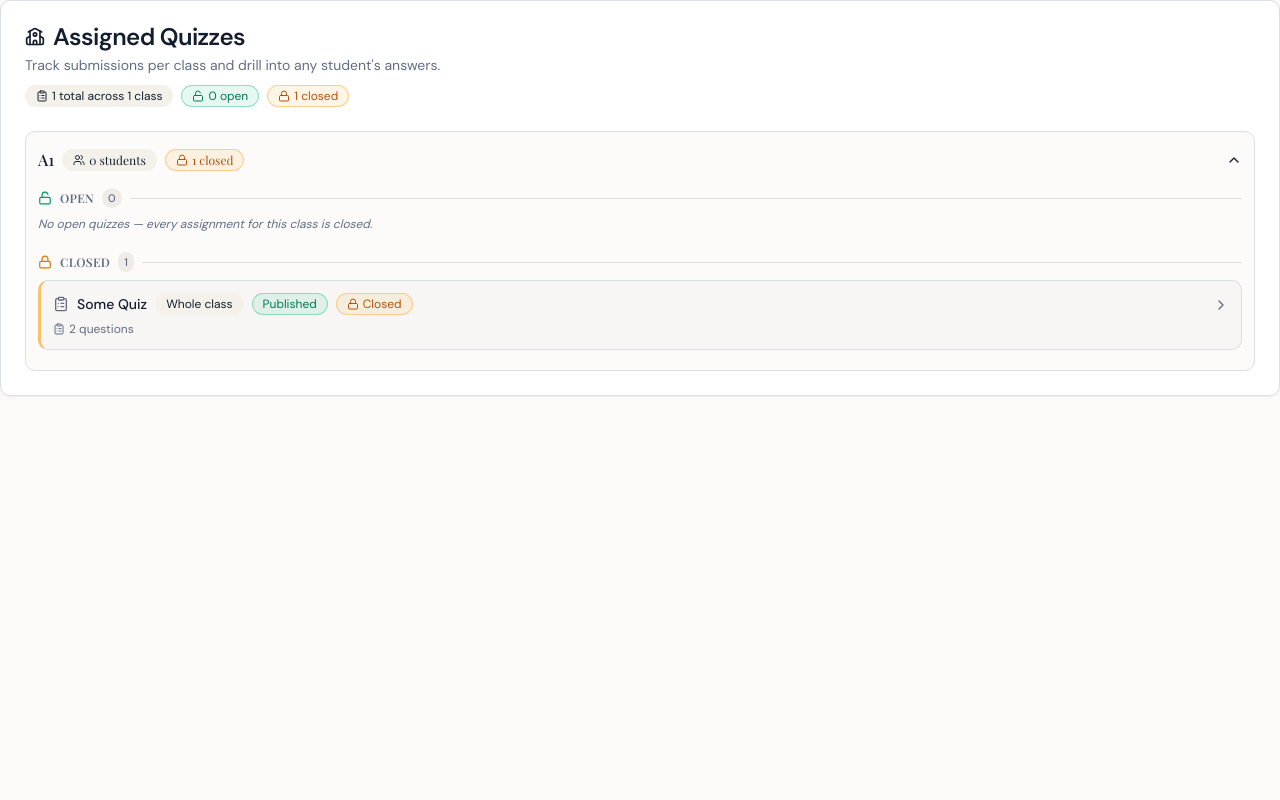
Test: AssignedQuizzesBoard › offers no in-card Analyze action — the AI assessment lives in the results dialog
Check: the text "A1" is shown, box [38,148,54,172]
Check: the text "Some Quiz" is shown, box [77,294,147,314]
Click the button "Some Quiz Whole class Published Closed 2 questions". click: (112, 304)
box: [41,281,1241,349]
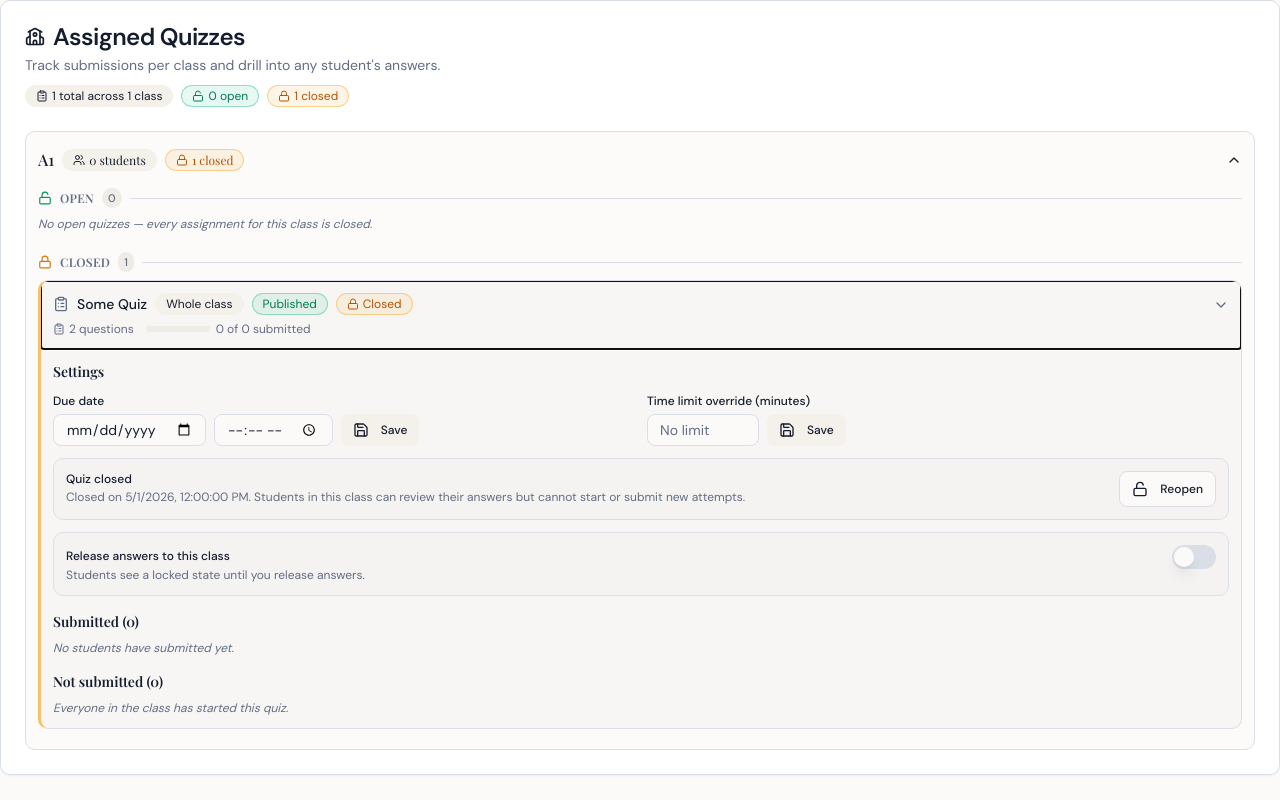
Check: the button with test id "reopen-oq-1" is shown, box [1119,471,1216,507]
